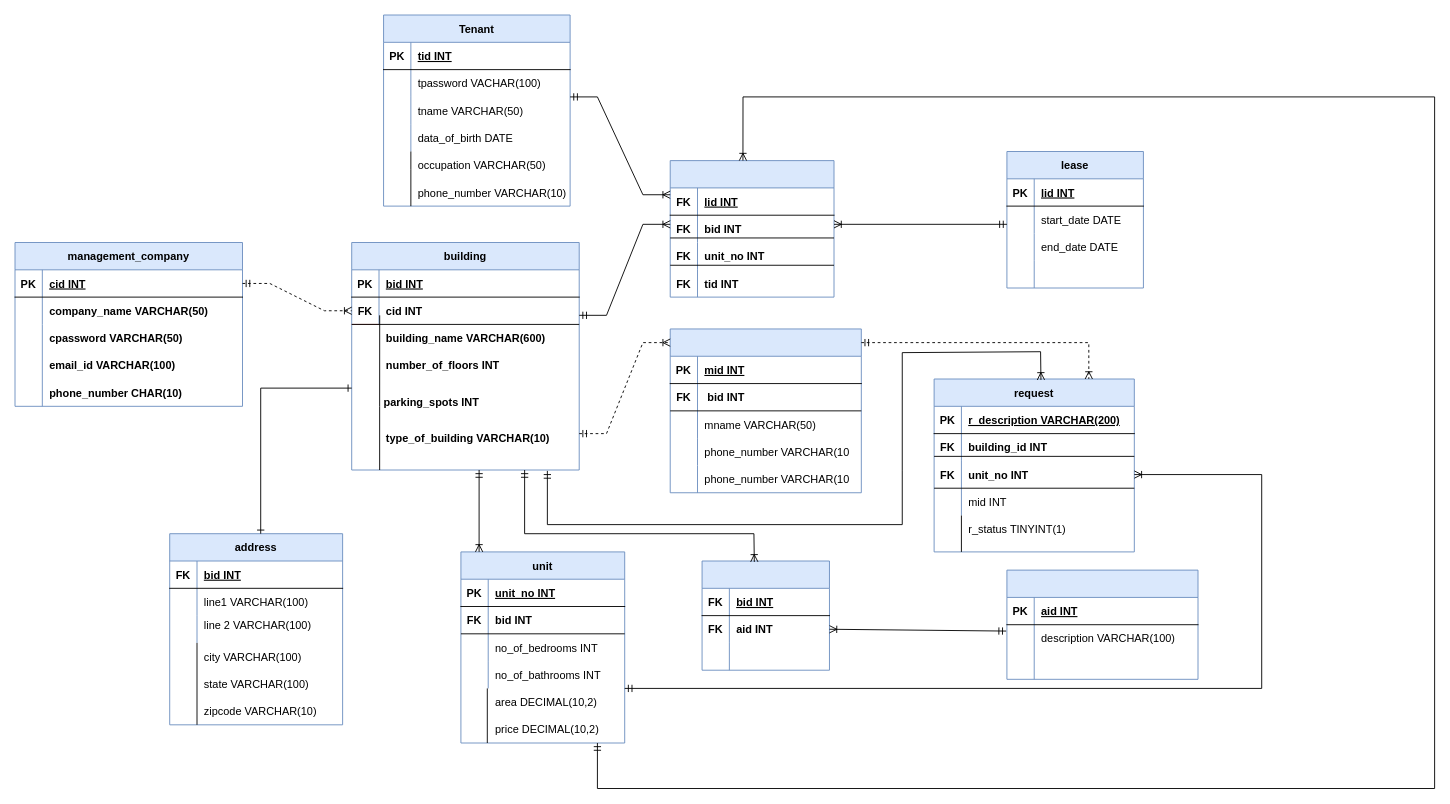
This 1450x804 diagram has some shape labels left out. The box of each missing label's shape, as (x1, y1, x2, y2) in pixels:
amenity: (1006, 569, 1198, 679)
building_has_amenity: (701, 560, 829, 670)
leased_units: (669, 160, 834, 297)
m_personnel: (669, 328, 861, 493)
